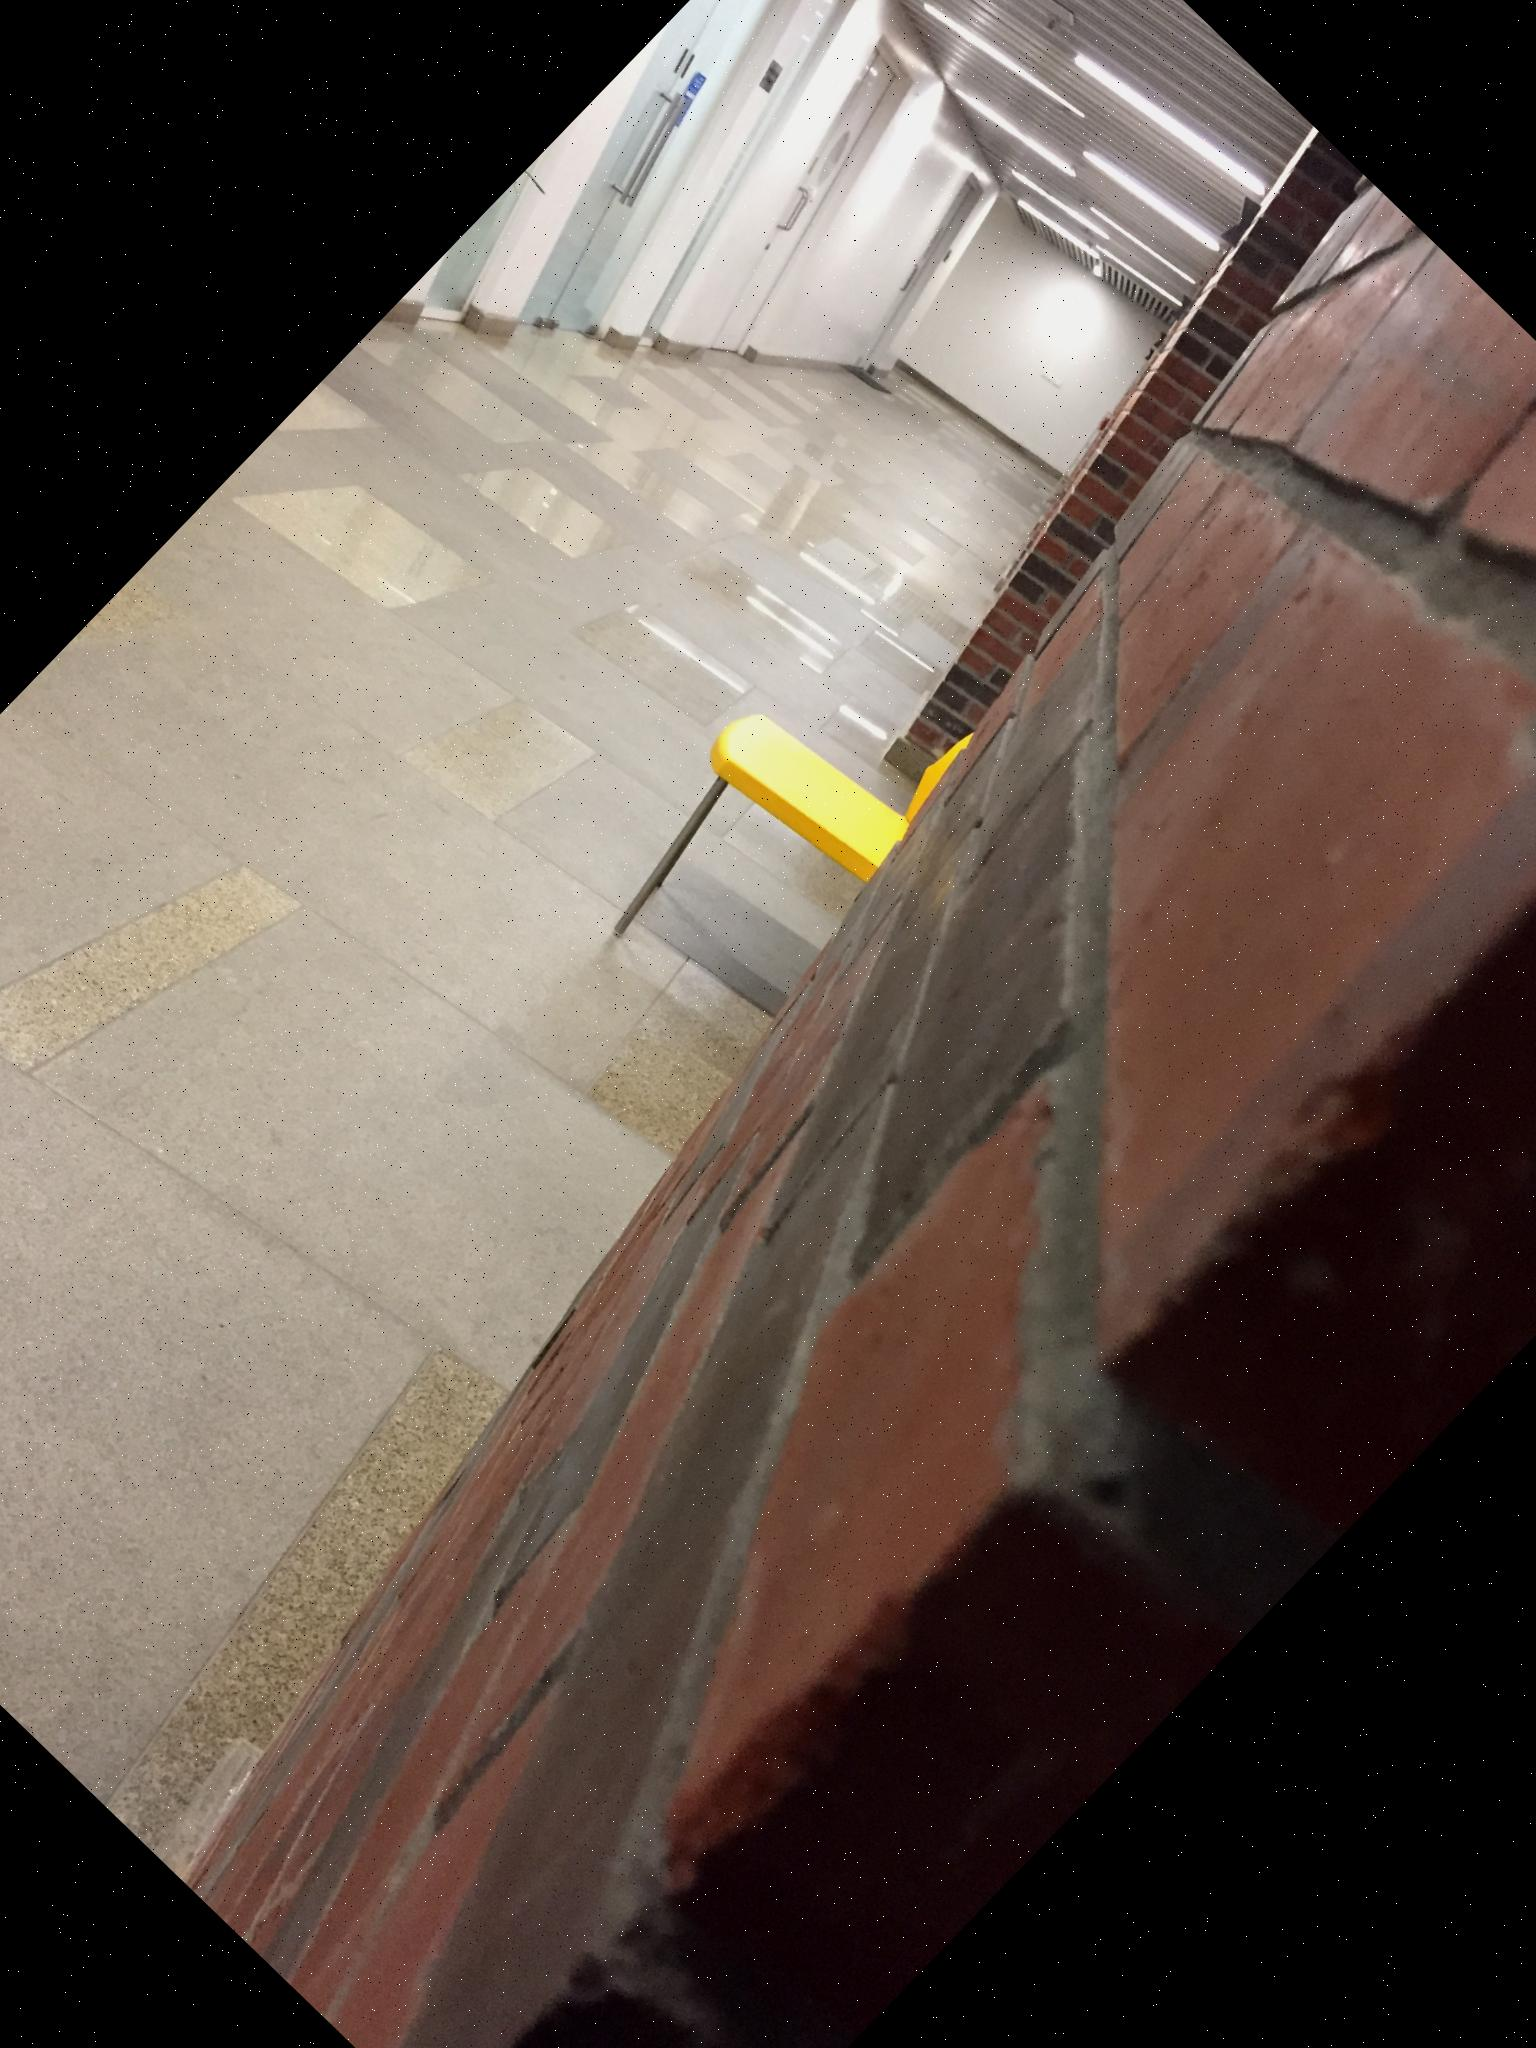chair: (568, 605, 1012, 1053)
